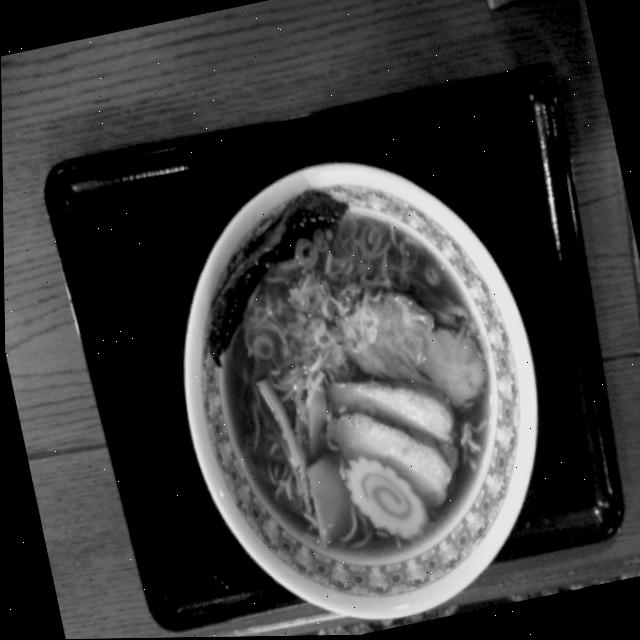面条主食: (137, 122, 586, 638)
